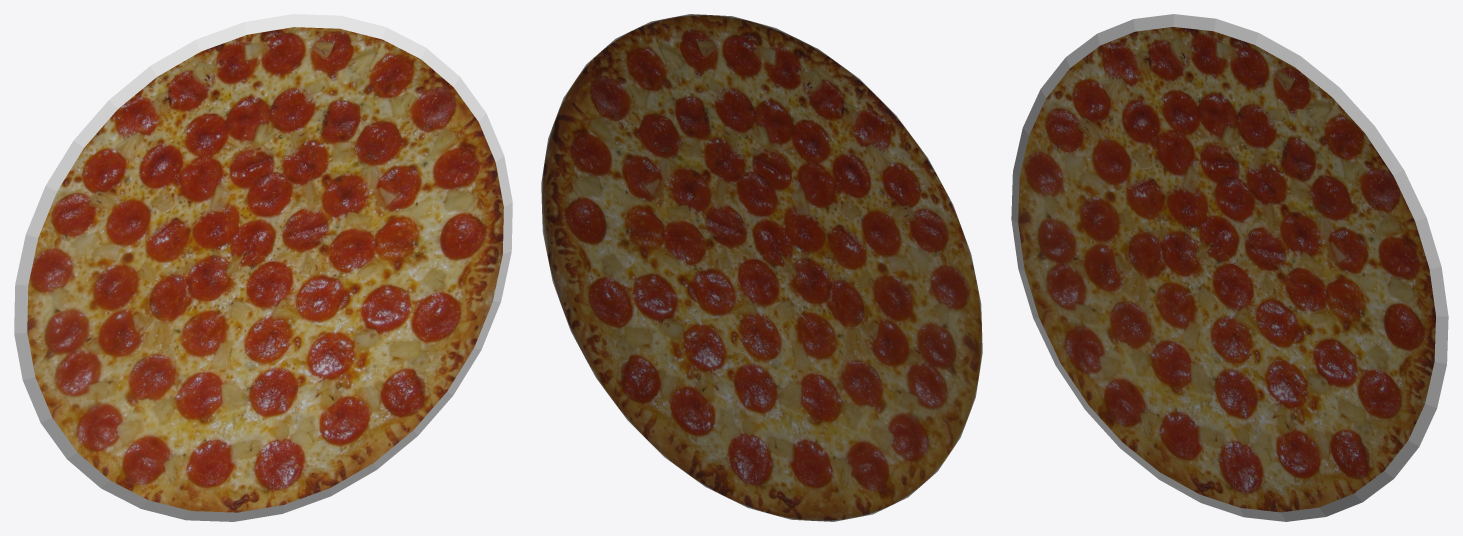
File: pizza_V2_4.obj
The picture shows the model from 3 angles, left to right: view 1: azimuth 30°, elevation 25°; view 2: azimuth 150°, elevation 25°; view 3: azimuth 330°, elevation 25°; orthographic projection.
Parts seen in each view (by area): view 1: Cylinder.001_Cylinder.002; view 2: Cylinder.001_Cylinder.002; view 3: Cylinder.001_Cylinder.002.
Boxes of the visible parts, x1,y1,x2,y2 form: Cylinder.001_Cylinder.002: (14,14,512,521); Cylinder.001_Cylinder.002: (541,14,982,521); Cylinder.001_Cylinder.002: (1011,14,1448,521).
Size of the model in its own units: 1.77 by 1.78 by 0.1886.
